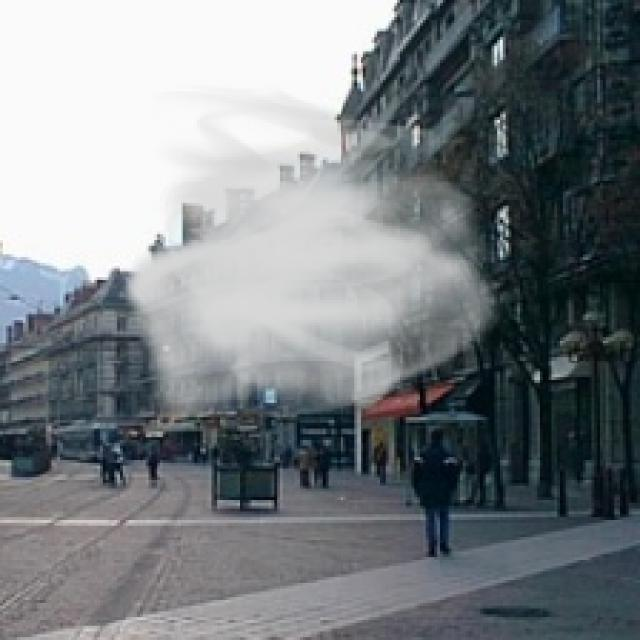smoke: (120, 83, 511, 428)
